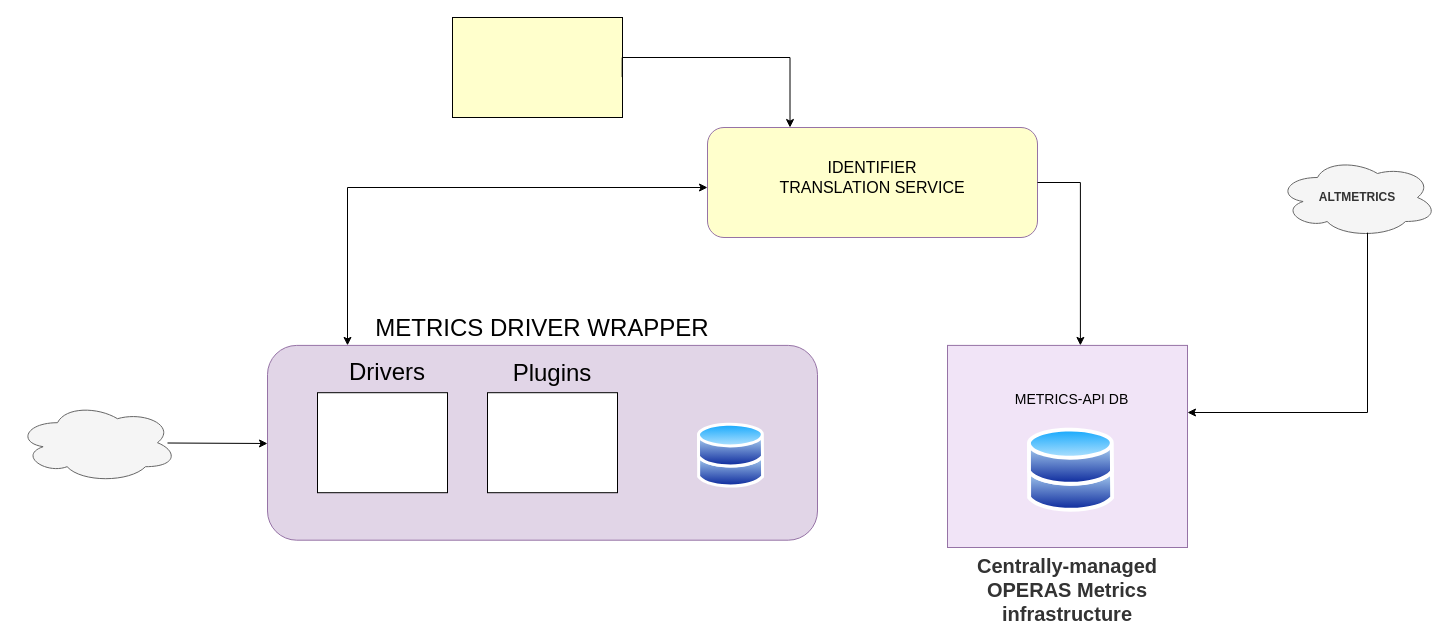
This 1455x644 diagram has some shape labels left out. Here are the shapes that lost their labels. From the top down, the centre of each, then its label:
At point (537, 67): "TOKENS API".
At point (97, 442): "APIS".
At point (730, 455): "METRICS DRIVER WRAPPER DB".
